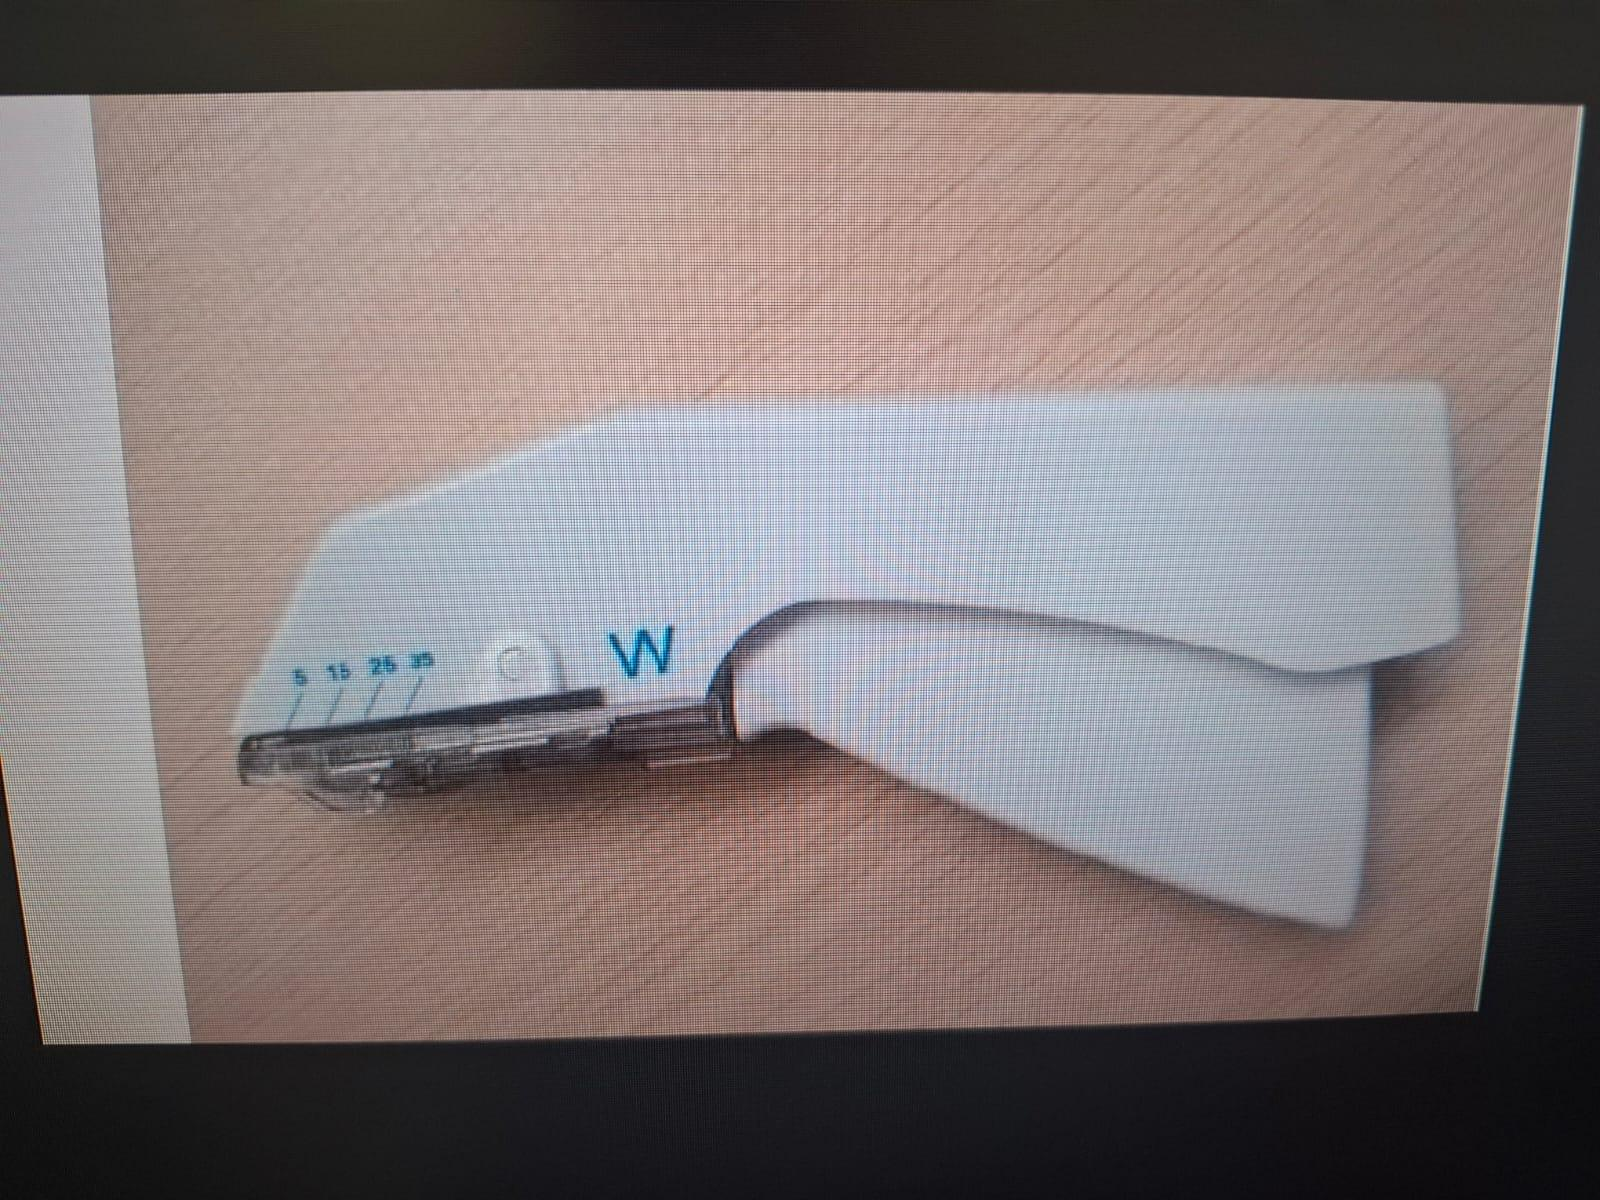Skin Stapler: (215, 362, 1474, 966)
